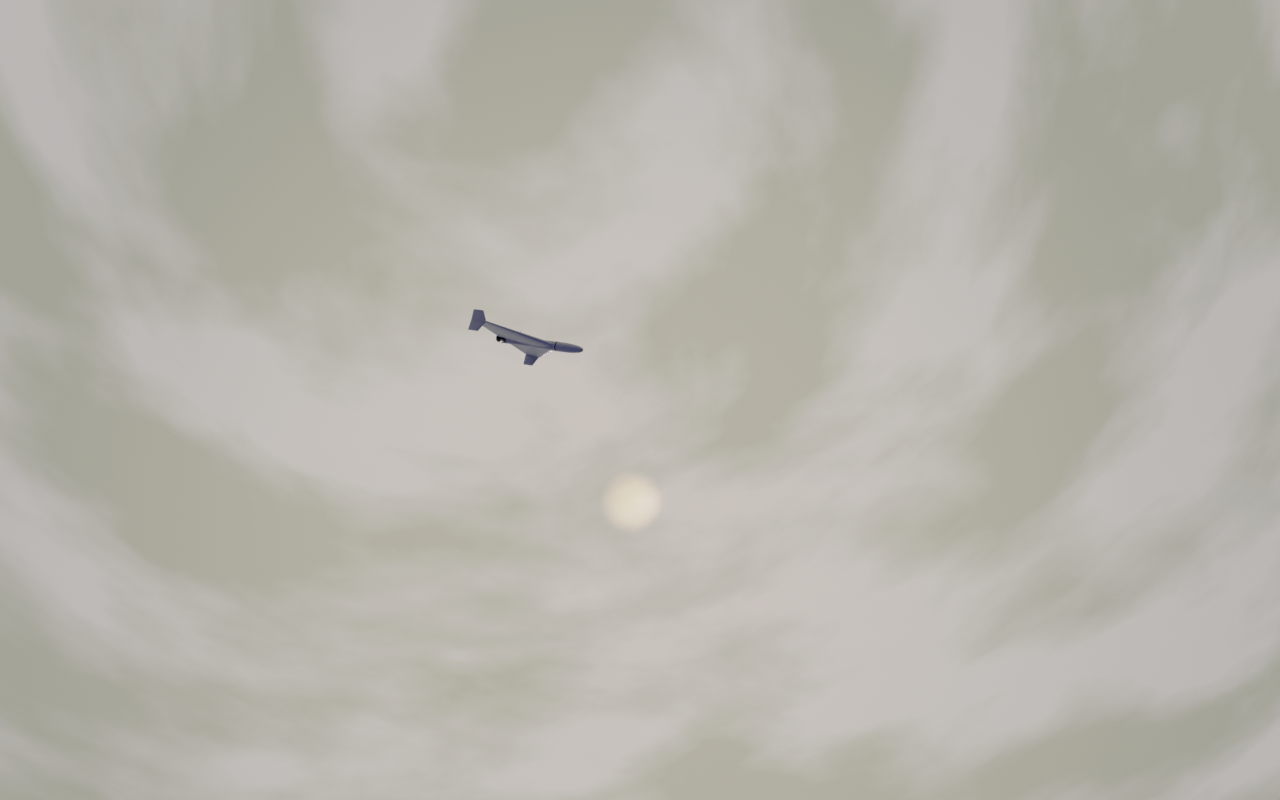shahed: (468, 309, 585, 367)
